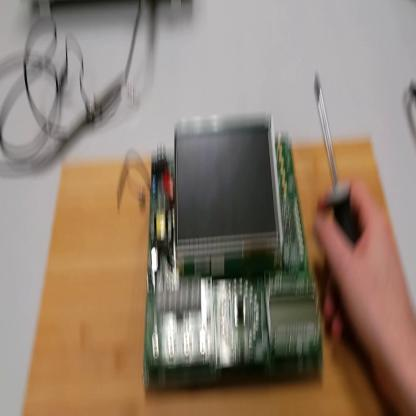hand: (314, 177, 412, 376)
low voltage board: (120, 103, 323, 394)
oscilloscope probe tip: (31, 71, 128, 172)
screwdriver-: (315, 70, 361, 246)
working area: (24, 136, 408, 415)
